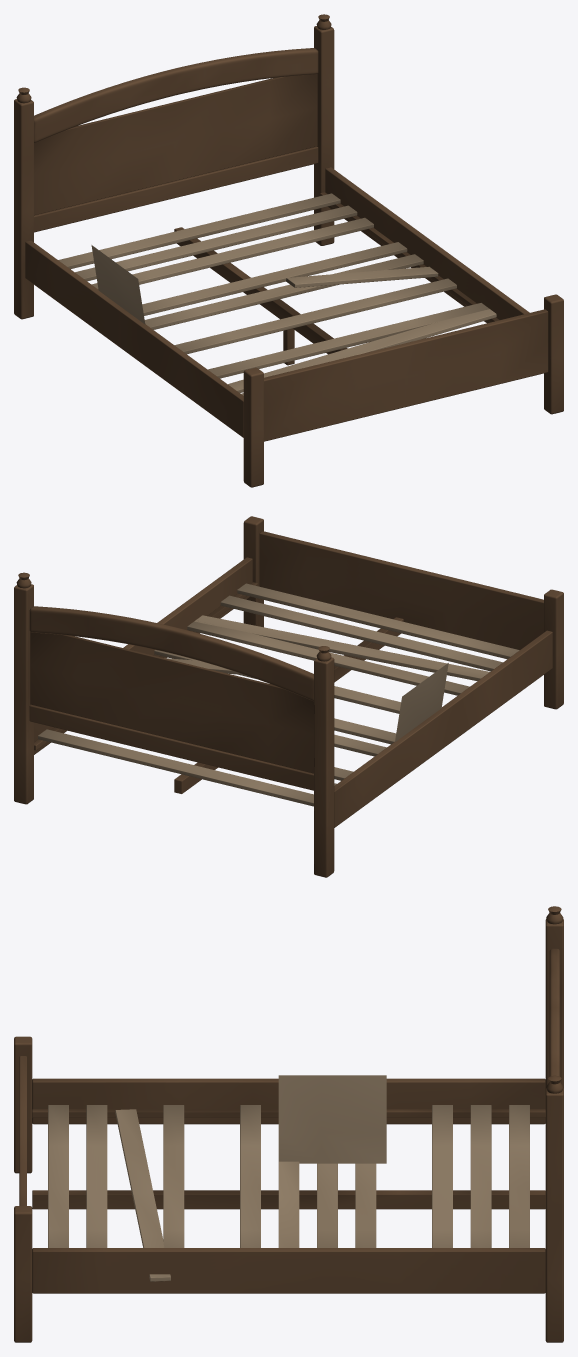
The model's file is bed_frame.glb.
3 renders of one model, top to bottom at view 1: azimuth 30°, elevation 25°; view 2: azimuth 150°, elevation 25°; view 3: azimuth 270°, elevation 25°, orthographic. The views are drawn at different scales.
Visible parts, largest first — view 1: bed_frame; view 2: bed_frame; view 3: bed_frame.
Part boxes in pixels (x1,y1,x2,y2): bed_frame: (14,14,563,487); bed_frame: (14,516,563,877); bed_frame: (14,906,563,1342).
Size of the model in its own units: 1.61 by 1.11 by 2.1.
